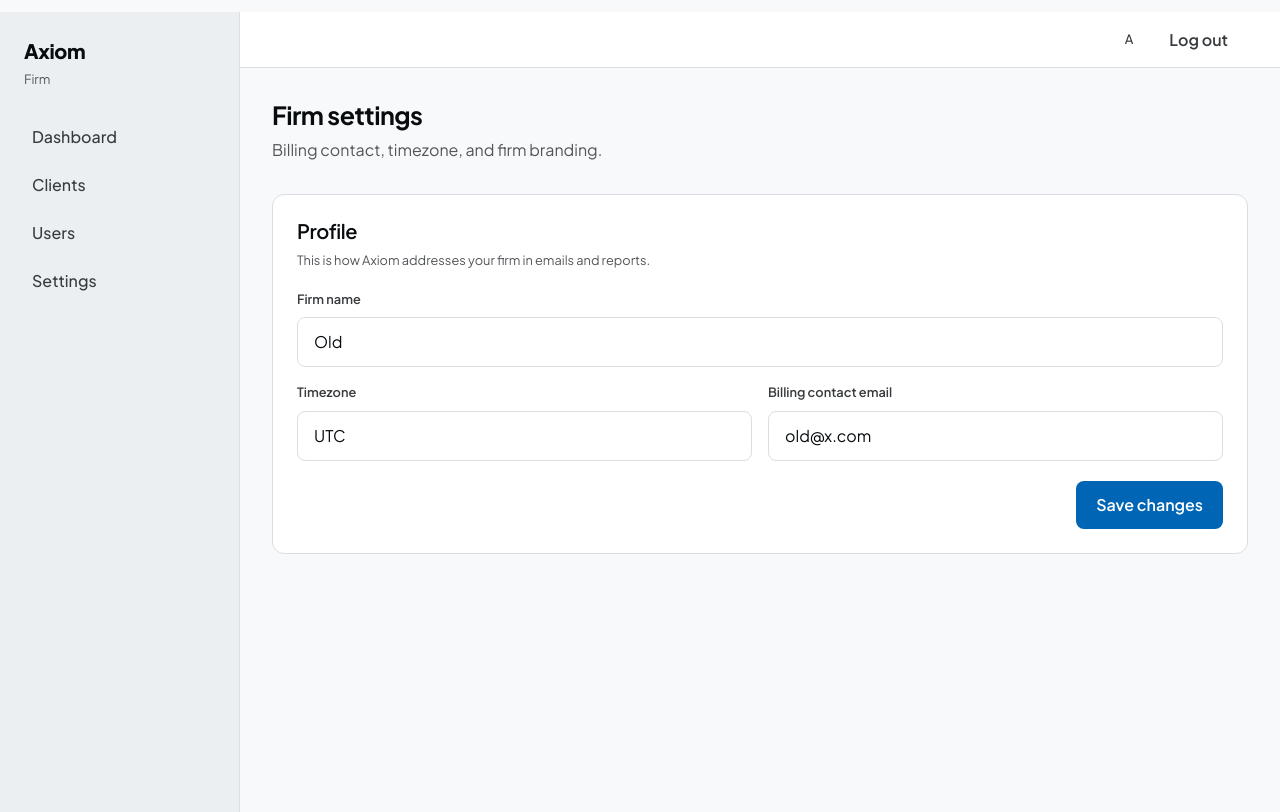
Scenario: FirmSettingsPage › PATCHes /firms/current on save and shows a success notice
The image size is (1280, 812).
Replace the text in the field labelled "Firm name" with "New" at (760, 342), box x1=297 y1=317 x2=1223 y2=367
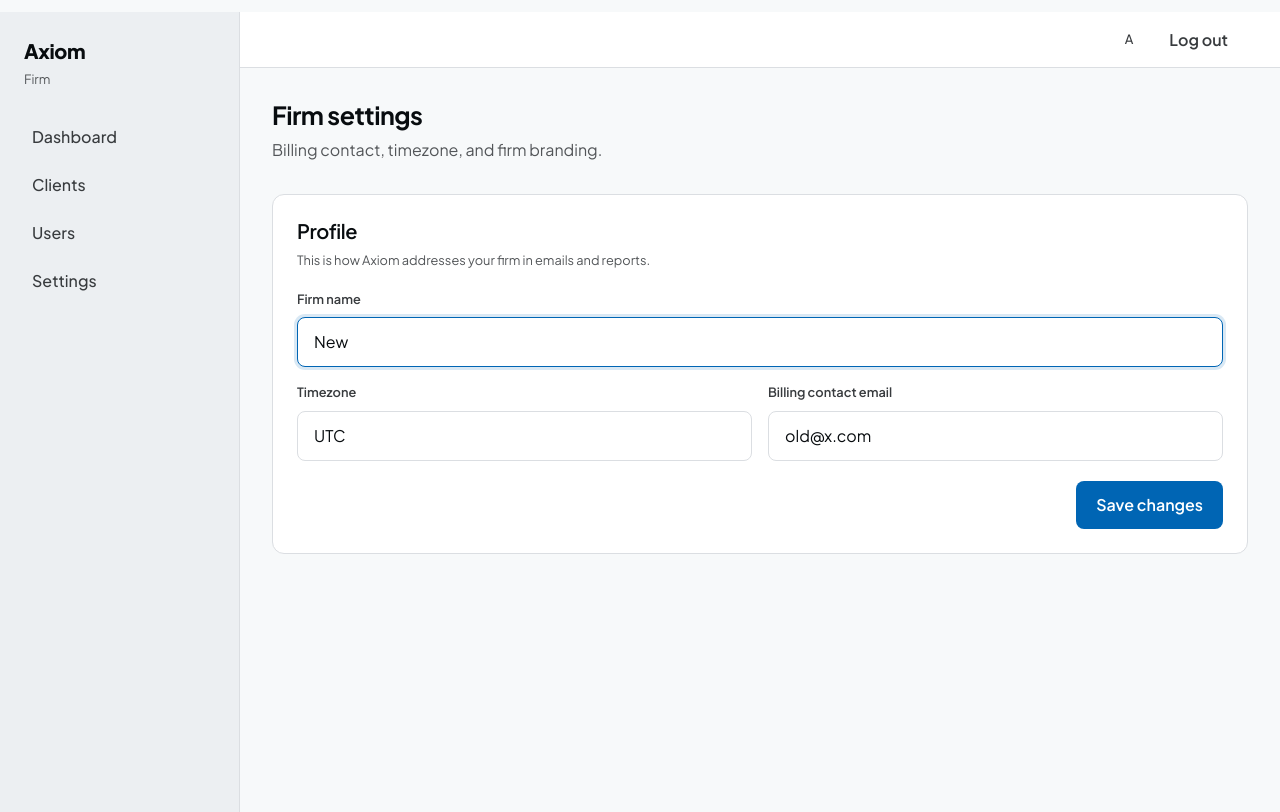
Click the button "Save changes".
click(1150, 505)  # box x1=1076 y1=481 x2=1223 y2=529
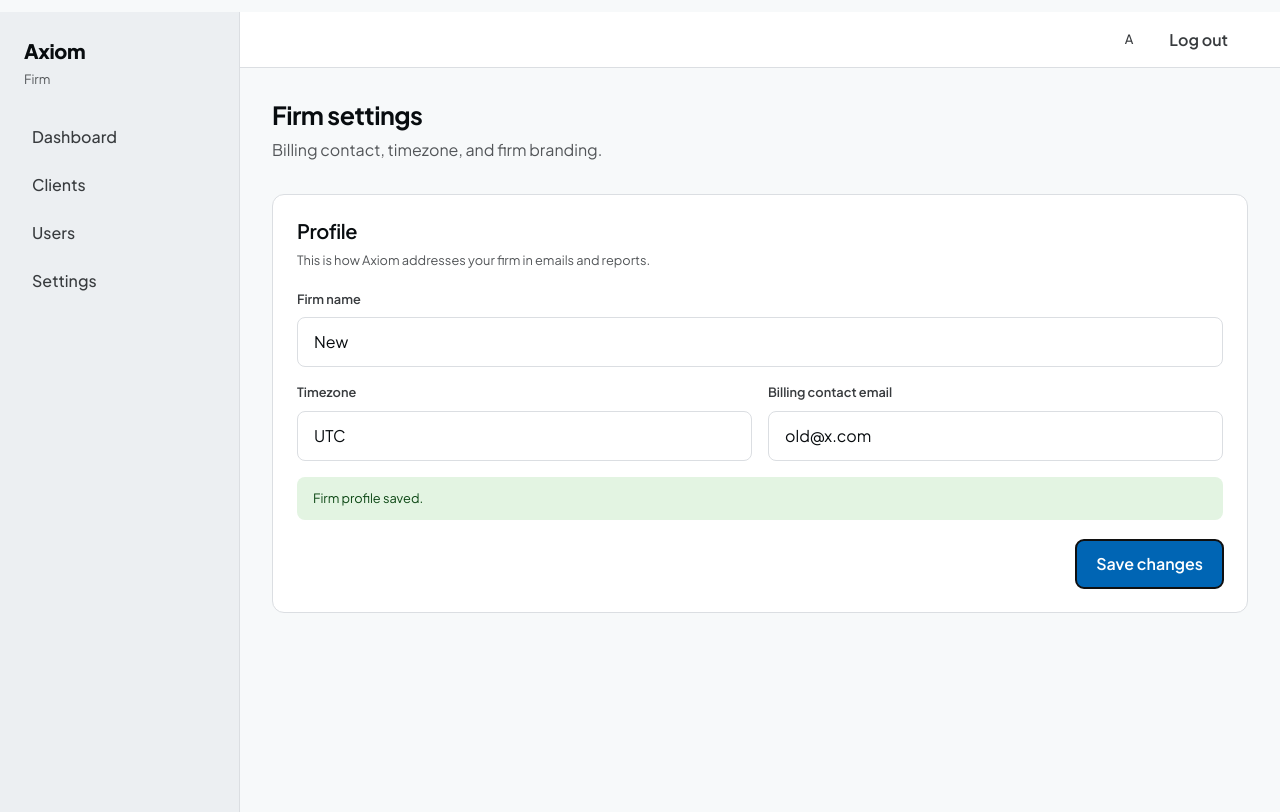
Check: the message shows "saved", box x1=313 y1=490 x2=423 y2=506
